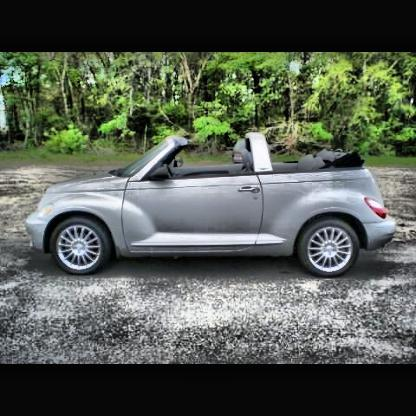Chrysler PT Cruiser Convertible 2008: (26, 134, 396, 278)
